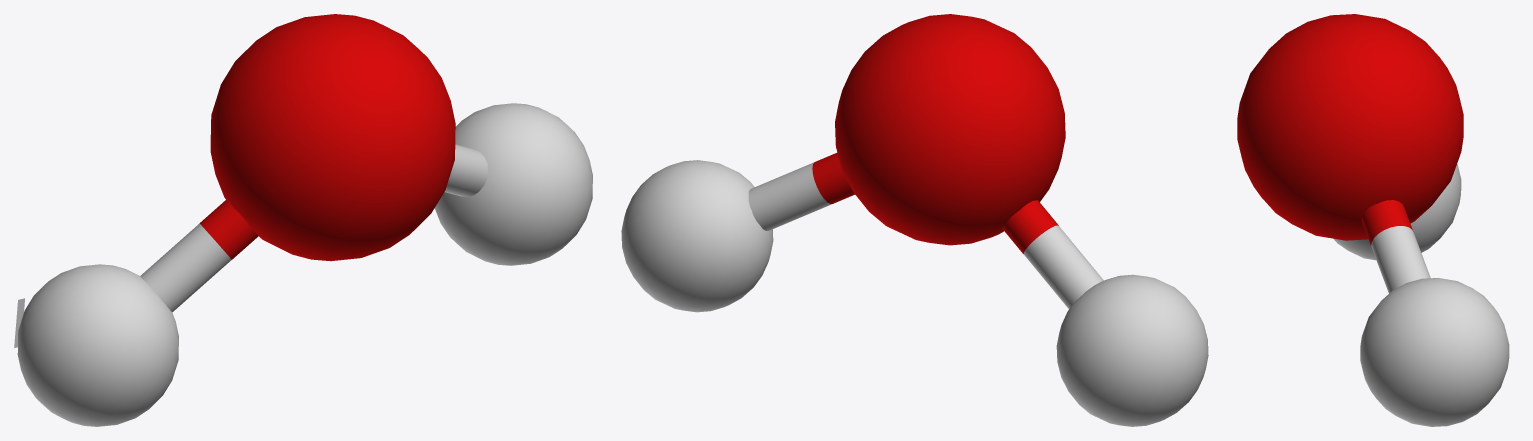
The model's file is yaku_vmd.glb.
The picture shows the model from 3 angles, left to right: view 1: azimuth 30°, elevation 25°; view 2: azimuth 150°, elevation 25°; view 3: azimuth 270°, elevation 25°; orthographic projection. The views are drawn at different scales.
Parts seen in each view (by area): view 1: agua_vmd; view 2: agua_vmd; view 3: agua_vmd.
Boxes of the visible parts, bbox=[...] form: agua_vmd: bbox=[17, 14, 592, 426]; agua_vmd: bbox=[621, 14, 1208, 426]; agua_vmd: bbox=[1237, 14, 1509, 426].
Size of the model in its own units: 2.4 by 1.41 by 1.1.
